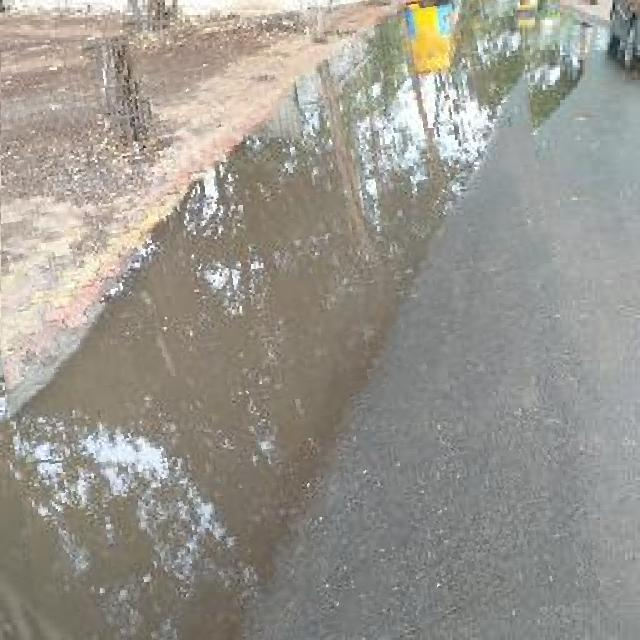puddle: (1, 1, 581, 640)
